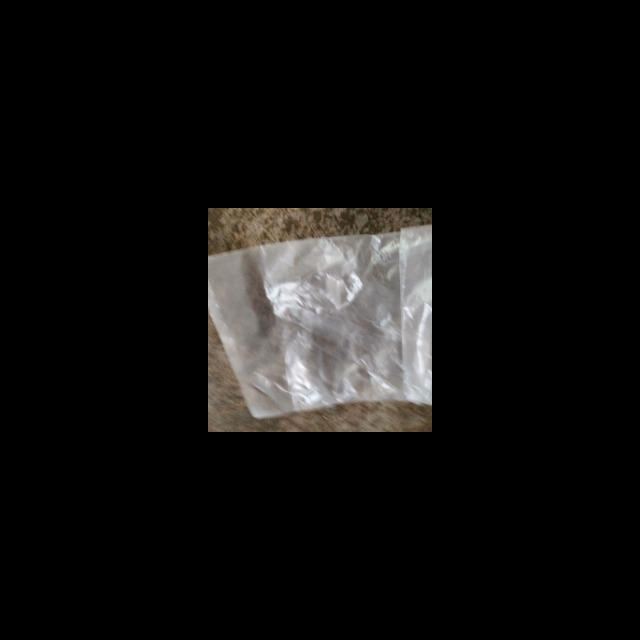plastic: (208, 225, 432, 418)
